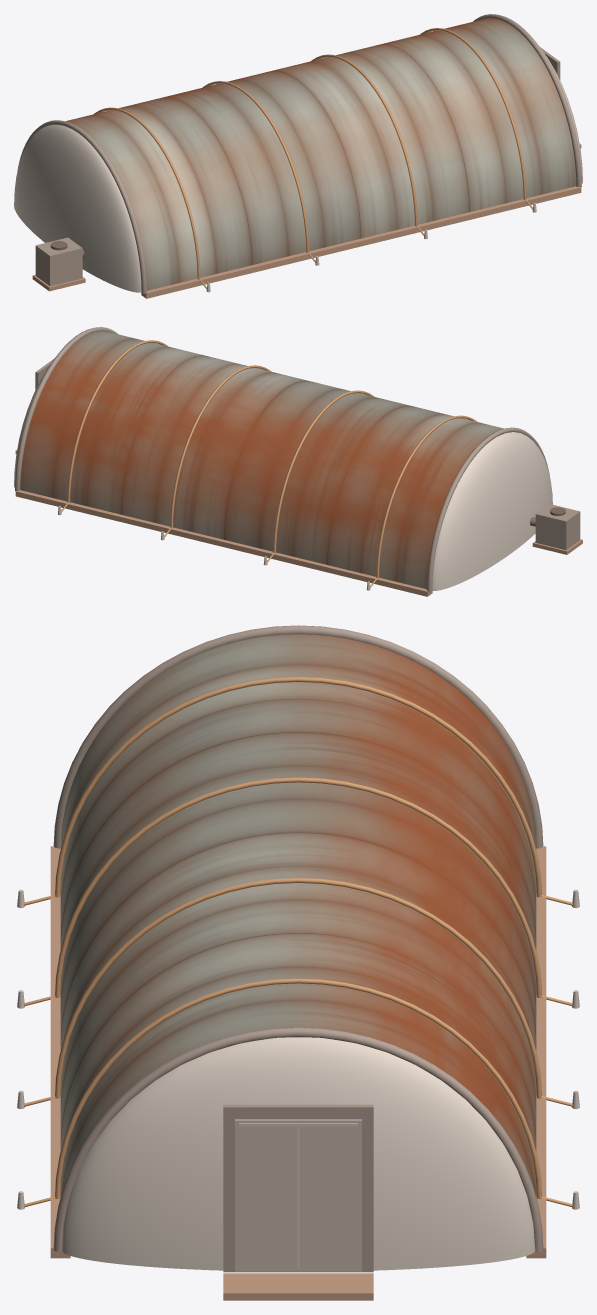
The model's file is I03_storage_tent_12m.glb.
3 views of the same model, one above another, from view 1: azimuth 30°, elevation 25°; view 2: azimuth 150°, elevation 25°; view 3: azimuth 270°, elevation 25° (orthographic). The views are drawn at different scales.
Visible parts, largest first — view 1: membrane, end_bulge, ground_beam, anchor_strap (×4), end_arch (×2), inflation_blower; view 2: membrane, end_bulge, ground_beam, anchor_strap (×4), end_arch (×2), inflation_blower; view 3: membrane, end_bulge, zip_door, anchor_strap (×4), end_arch (×2), ground_beam (×2), door_frame, door_mat.
Part boxes in pixels (left/top/right/bottom): membrane: left=66, top=18, right=576, bottom=290; end_bulge: left=14, top=125, right=141, bottom=292; ground_beam: left=141, top=186, right=581, bottom=298; anchor_strap (×4): left=94, top=28, right=526, bottom=279; end_arch (×2): left=17, top=14, right=581, bottom=293; inflation_blower: left=35, top=237, right=82, bottom=286; membrane: left=20, top=331, right=503, bottom=589; end_bulge: left=432, top=432, right=552, bottom=590; ground_beam: left=15, top=490, right=432, bottom=596; anchor_strap (×4): left=67, top=340, right=477, bottom=578; end_arch (×2): left=15, top=327, right=549, bottom=592; inflation_blower: left=535, top=504, right=580, bottom=550; membrane: left=60, top=634, right=536, bottom=1196; end_bulge: left=61, top=1037, right=535, bottom=1270; zip_door: left=235, top=1119, right=361, bottom=1271; anchor_strap (×4): left=55, top=677, right=541, bottom=1198; end_arch (×2): left=53, top=625, right=543, bottom=1251; ground_beam (×2): left=50, top=846, right=546, bottom=1258; door_frame: left=223, top=1104, right=373, bottom=1272; door_mat: left=223, top=1273, right=373, bottom=1300.
Bounding box in the file's own units: 15.06 × 3.21 × 7.1.
Materials: 8 (1 with a texture image).
